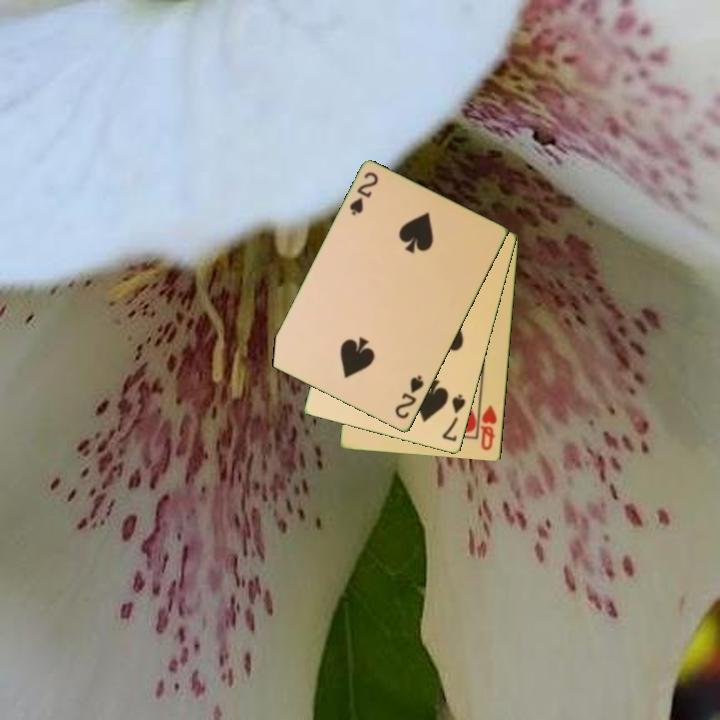2s: (392, 372, 427, 422), (346, 169, 381, 219)
7s: (438, 391, 469, 445)
Qh: (477, 402, 500, 454)
